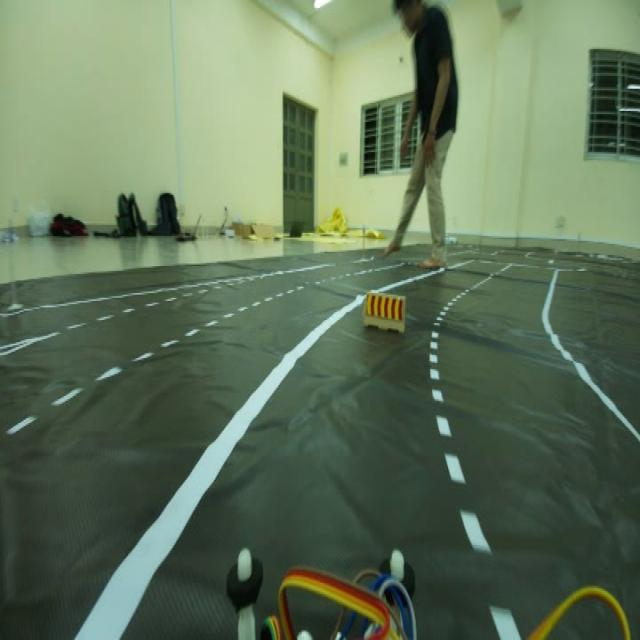roadblock: (358, 286, 415, 340)
